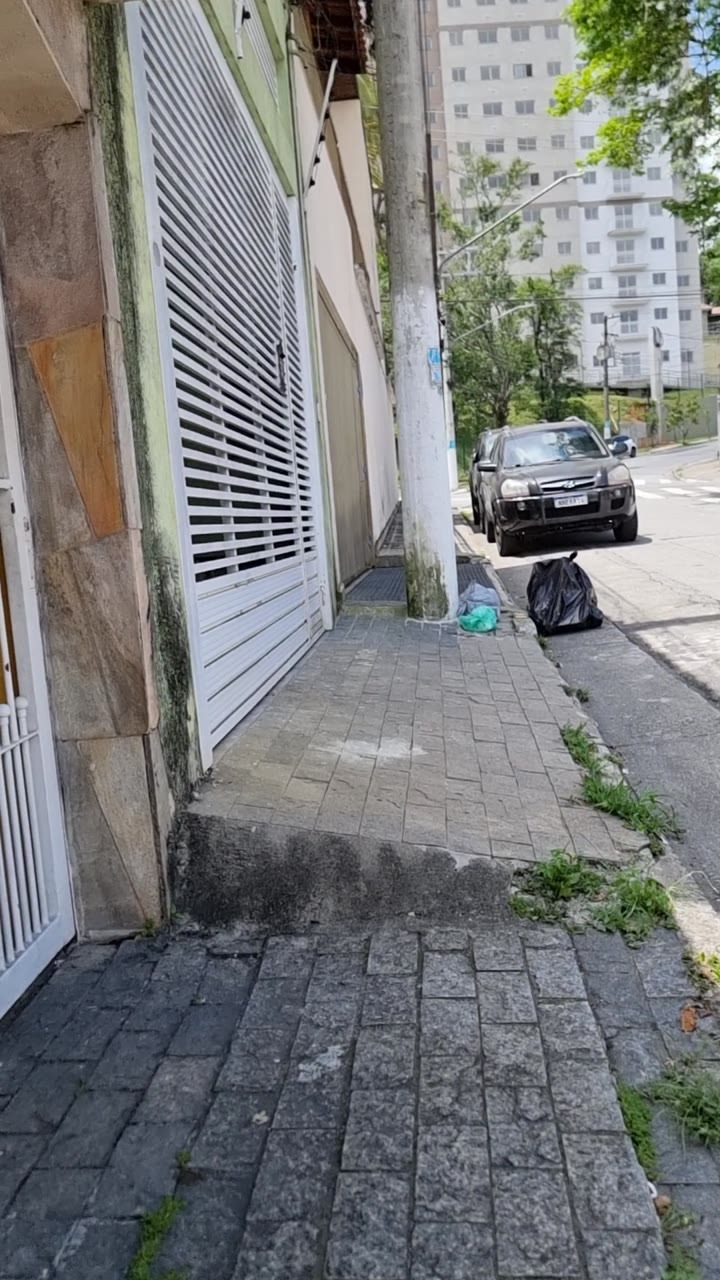desnivel: (180, 768, 720, 883)
obstaculo: (374, 0, 446, 589), (527, 553, 603, 636)
